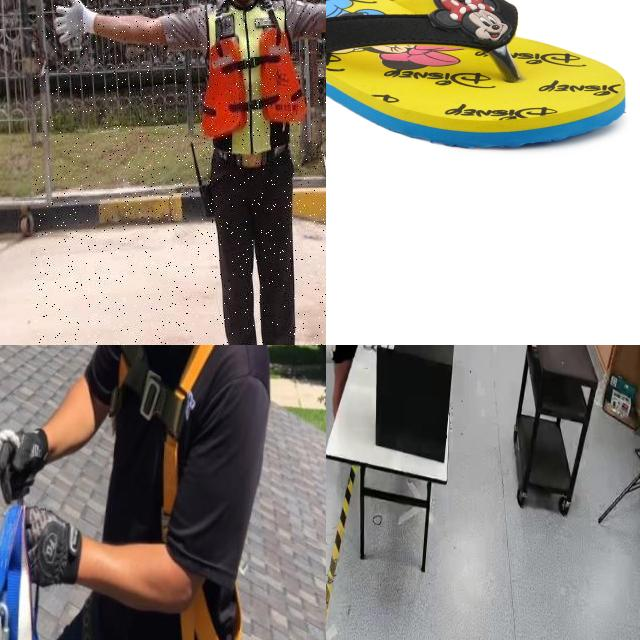Harness: (115, 345, 217, 542)
Sandals: (326, 0, 627, 149)
hand_glove: (326, 345, 342, 364)
person: (35, 0, 326, 345), (326, 345, 378, 428)
vest: (201, 0, 306, 159)
